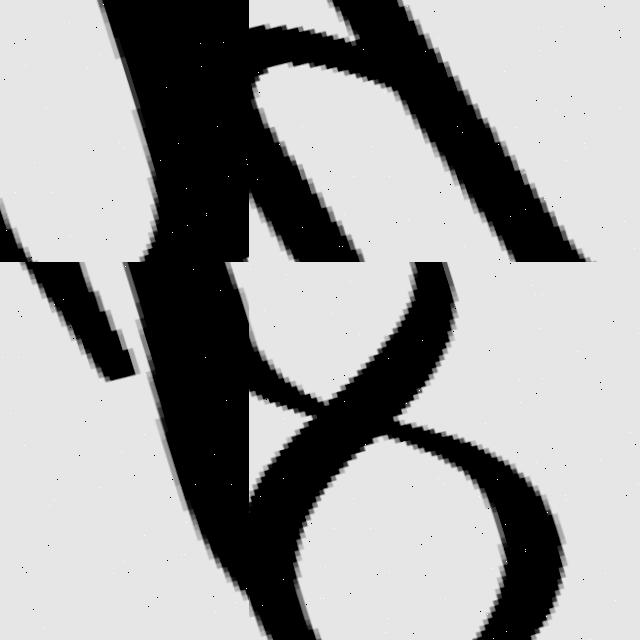8: (249, 262, 608, 640)
H: (249, 0, 640, 262)
S: (0, 262, 249, 640)
